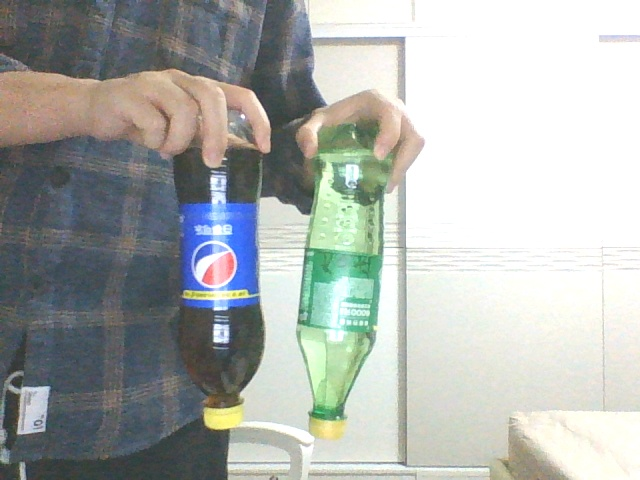Cola: (173, 114, 265, 431)
Sprite: (294, 123, 392, 441)
